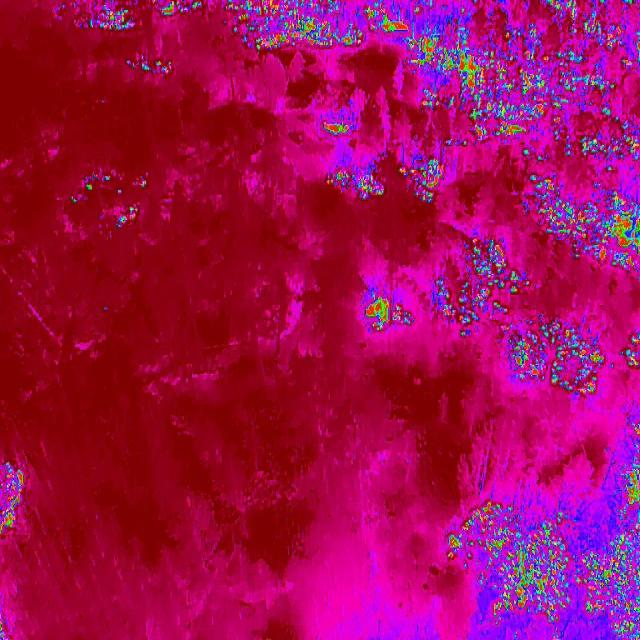fire: (447, 494, 640, 640), (159, 0, 640, 55), (409, 53, 640, 148), (525, 148, 640, 272), (434, 242, 542, 343), (497, 311, 604, 403), (64, 168, 152, 233), (56, 0, 140, 35), (399, 156, 448, 206), (322, 170, 390, 206), (0, 461, 26, 541), (364, 292, 411, 333), (617, 414, 640, 494), (120, 52, 178, 72), (322, 114, 358, 144), (620, 332, 640, 376)
